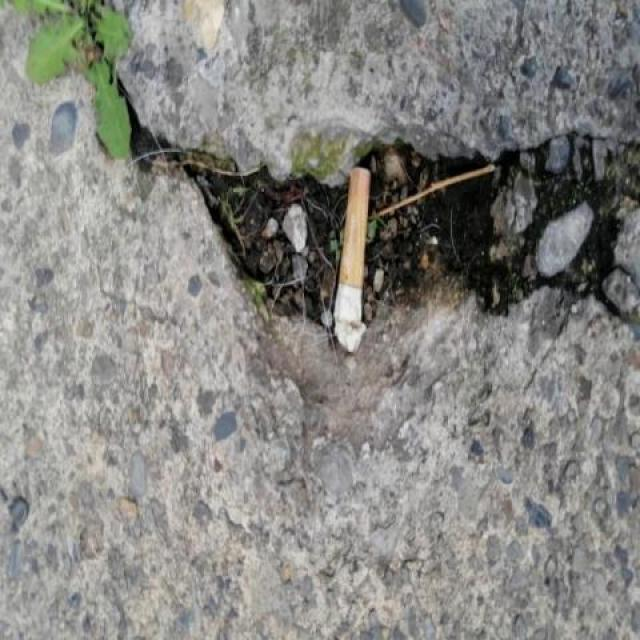non-organic waste: (330, 165, 374, 358)
